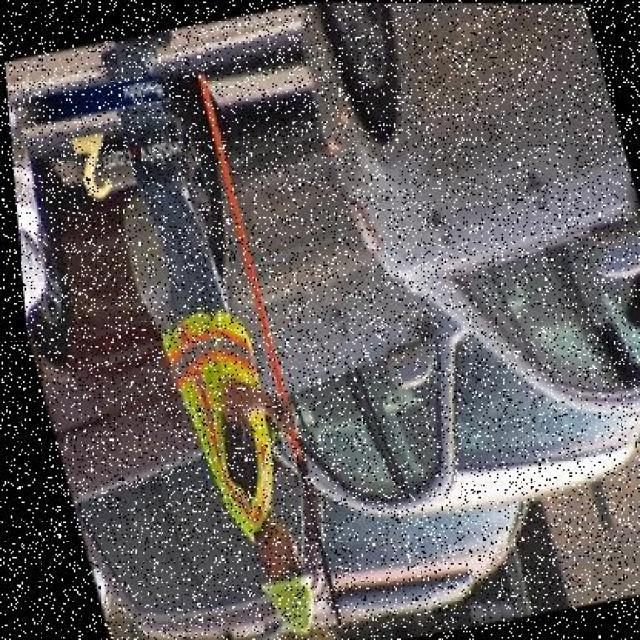helmet: (240, 554, 320, 638)
vest: (146, 295, 290, 527)
